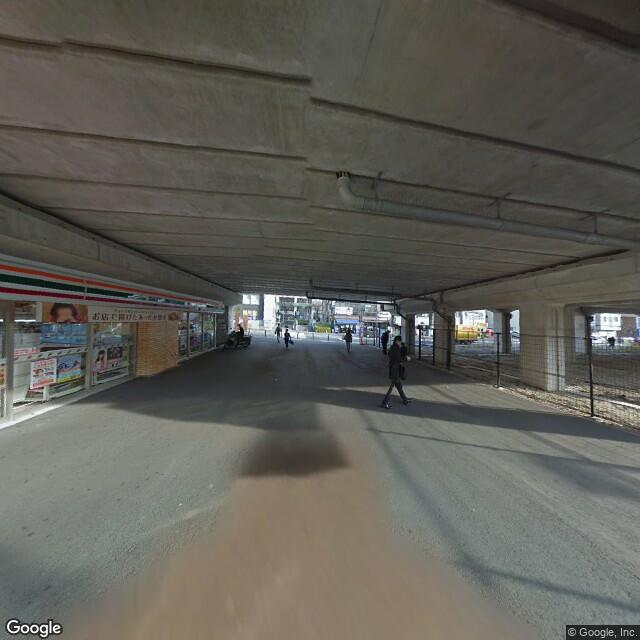7-eleven: (1, 255, 229, 317)
